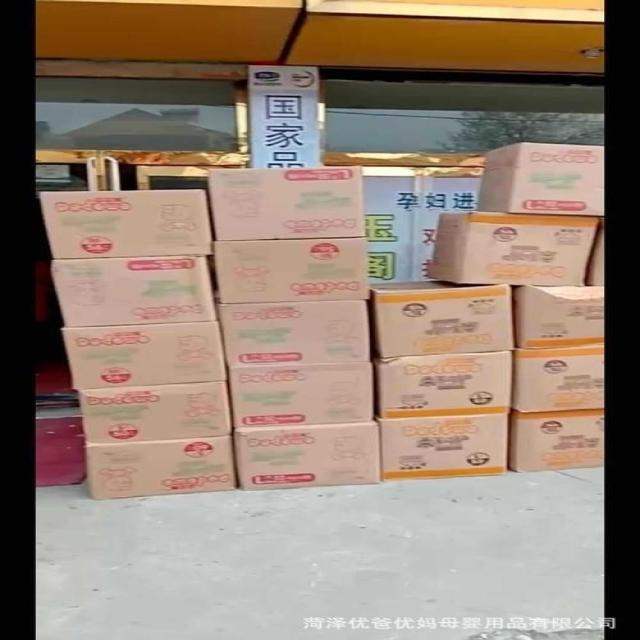box: (428, 211, 599, 287), (51, 256, 219, 328), (38, 189, 212, 258), (207, 166, 365, 240), (369, 280, 516, 358), (63, 321, 227, 389), (214, 238, 369, 305), (219, 299, 371, 366), (234, 422, 381, 490), (227, 361, 374, 428), (84, 436, 237, 500), (476, 142, 605, 217), (77, 381, 232, 443), (375, 351, 513, 419), (380, 413, 509, 480), (511, 343, 604, 413), (508, 408, 604, 472), (513, 286, 604, 348)
